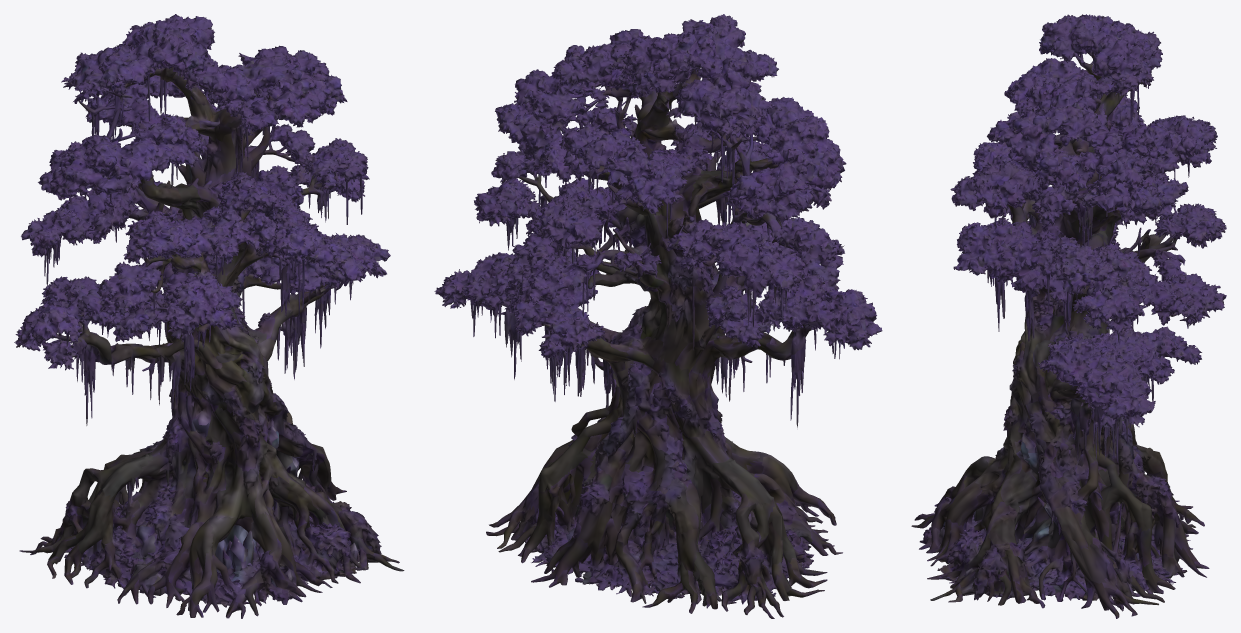
The model's file is Meshy_AI_giant_ancient_tree_0823035337_image-to-3d-texture.glb.
The picture shows the model from 3 angles, left to right: view 1: azimuth 30°, elevation 25°; view 2: azimuth 150°, elevation 25°; view 3: azimuth 270°, elevation 25°; orthographic projection. The views are drawn at different scales.
Parts seen in each view (by area): view 1: mesh_node; view 2: mesh_node; view 3: mesh_node.
Part boxes in pixels (x1,y1,x2,y2): mesh_node: [14, 14, 404, 618]; mesh_node: [434, 14, 882, 618]; mesh_node: [911, 14, 1226, 618].
Size of the model in its own units: 1.5 by 1.92 by 1.07.
Materials: 1 (1 with a texture image).
